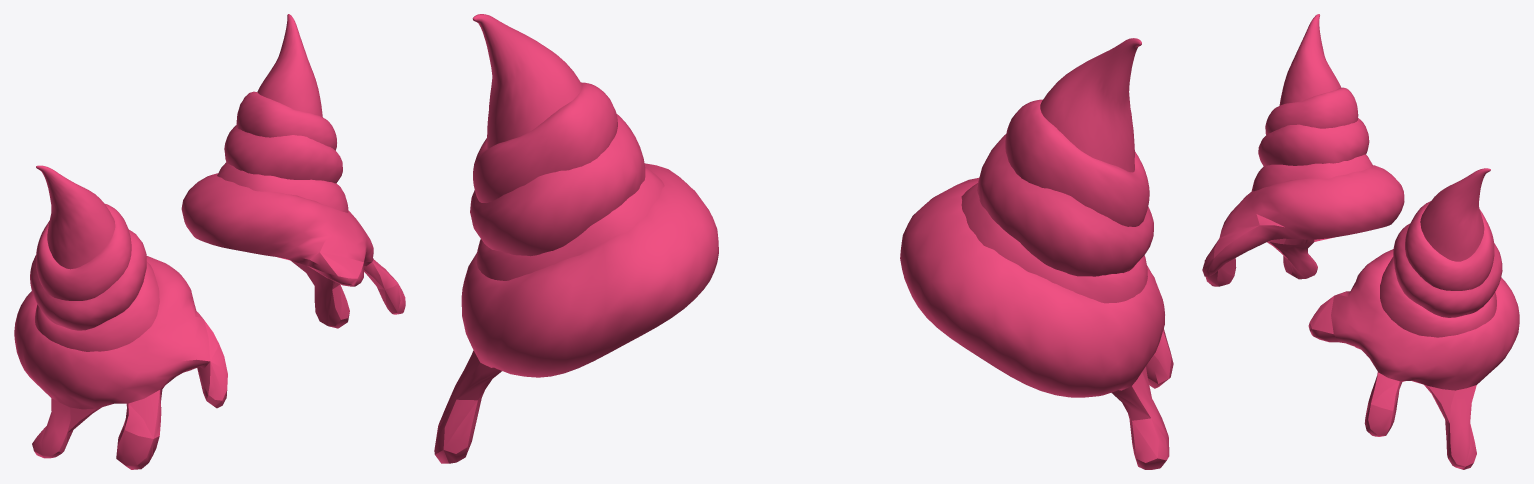
3 views of the same model, side by side, from view 1: azimuth 30°, elevation 25°; view 2: azimuth 150°, elevation 25°; view 3: azimuth 270°, elevation 25° (orthographic). The views are drawn at different scales.
Parts seen in each view (by area): view 1: ear_icecream; view 2: ear_icecream; view 3: ear_icecream.
Boxes of the visible parts, x1,y1,x2,y2 form: ear_icecream: [14, 14, 405, 469]; ear_icecream: [434, 14, 1173, 469]; ear_icecream: [1202, 14, 1519, 469].
Size of the model in its own units: 95.17 by 69.41 by 69.19.
